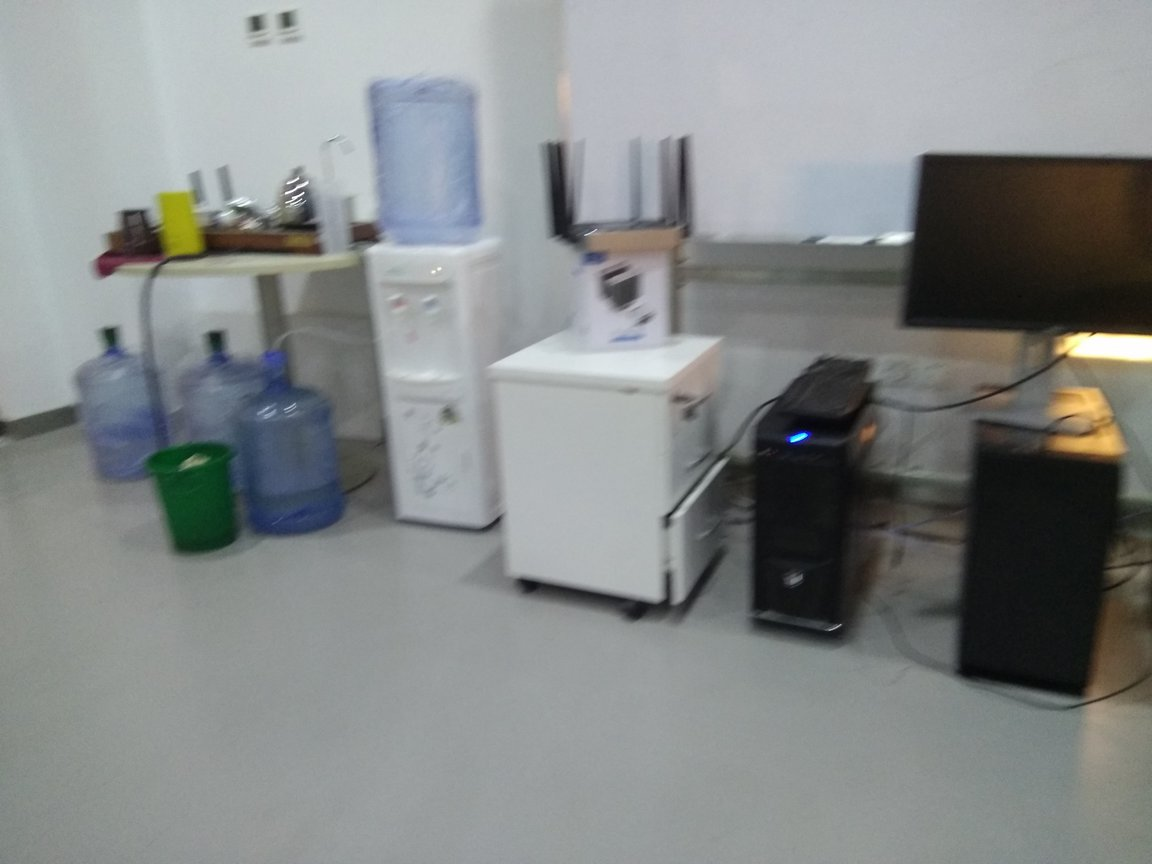computer: (961, 378, 1122, 722), (751, 377, 874, 652)
drawer chest: (492, 328, 720, 626)
monitor: (901, 136, 1152, 429)
scuttlebutt: (360, 66, 488, 258), (230, 352, 346, 542), (164, 326, 270, 504), (77, 320, 167, 475)
water dispenser: (364, 234, 513, 532)
